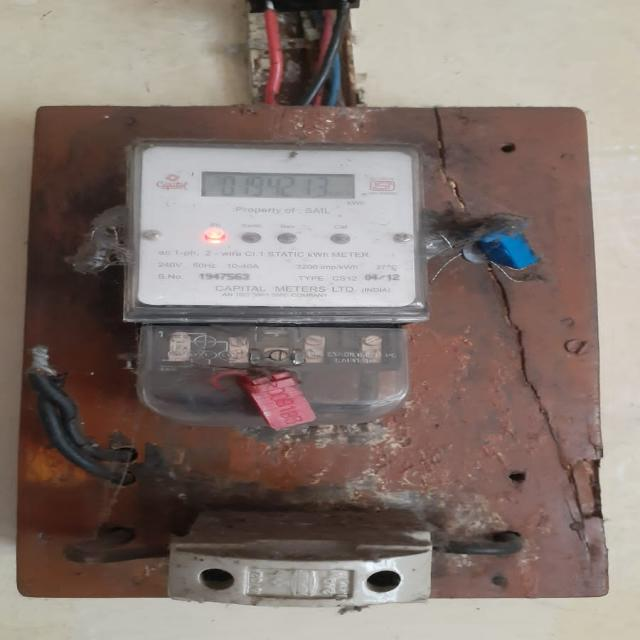display: (202, 170, 353, 202)
